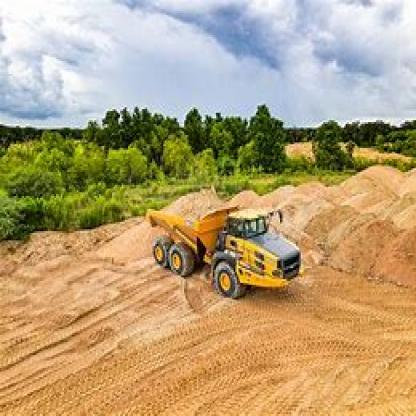dump_truck: (141, 178, 309, 305)
